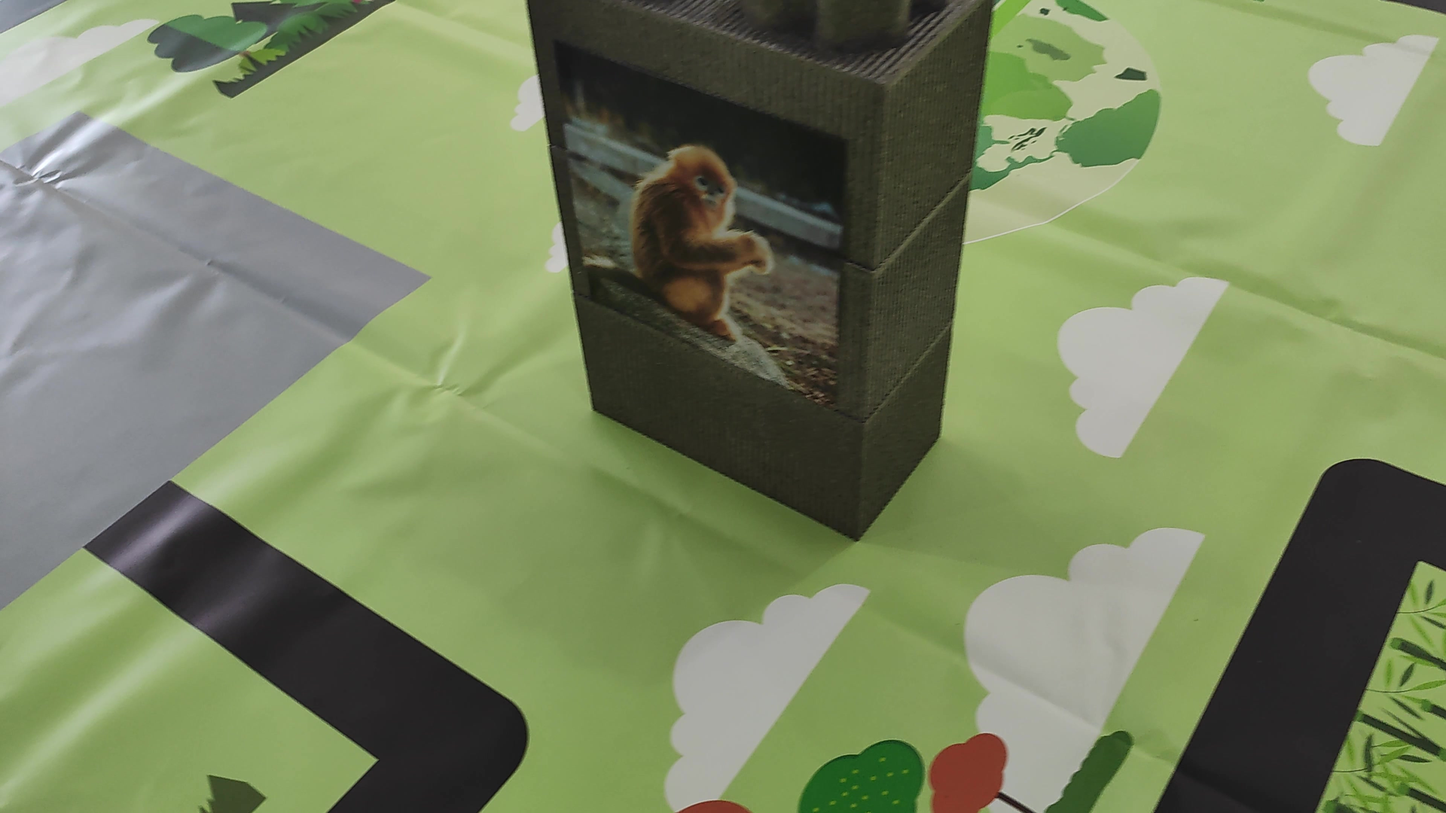monkey: (579, 134, 819, 348)
